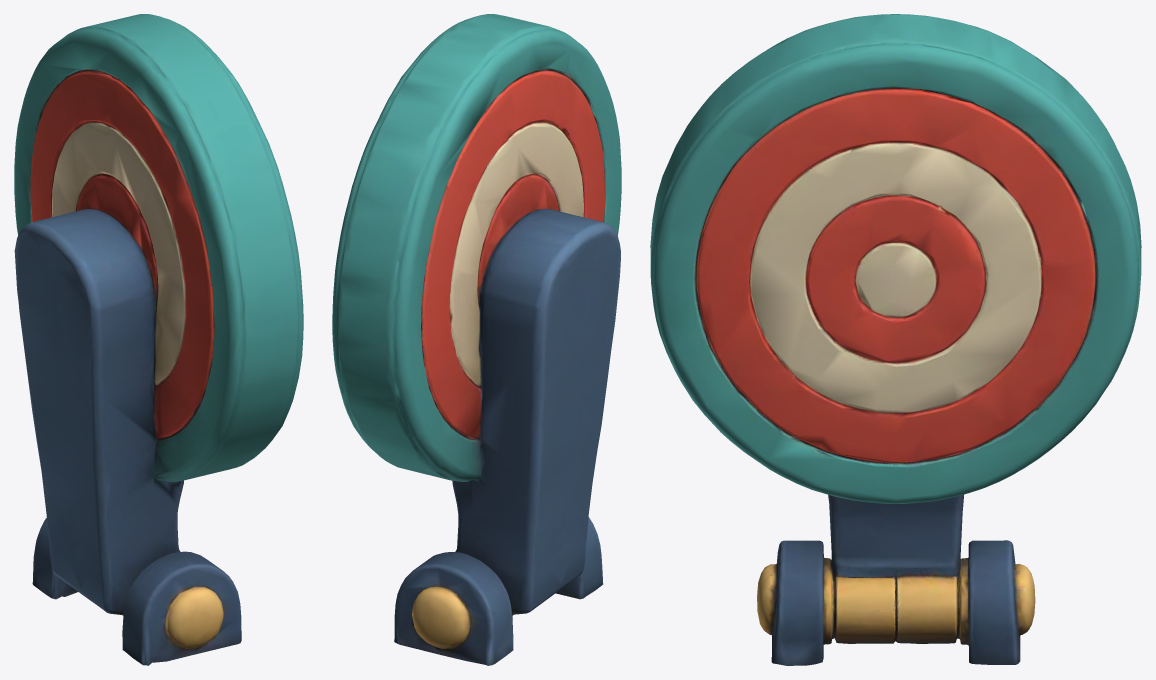
File: target.glb
The picture shows the model from 3 angles, left to right: view 1: azimuth 30°, elevation 25°; view 2: azimuth 150°, elevation 25°; view 3: azimuth 270°, elevation 25°; orthographic projection. The views are drawn at different scales.
Parts seen in each view (by area): view 1: tripo_node_e228d525-99fd-4e02-93d7-0b60b1f7116d; view 2: tripo_node_e228d525-99fd-4e02-93d7-0b60b1f7116d; view 3: tripo_node_e228d525-99fd-4e02-93d7-0b60b1f7116d.
Boxes of the visible parts, x1,y1,x2,y2 form: tripo_node_e228d525-99fd-4e02-93d7-0b60b1f7116d: [14, 14, 303, 665]; tripo_node_e228d525-99fd-4e02-93d7-0b60b1f7116d: [332, 14, 621, 665]; tripo_node_e228d525-99fd-4e02-93d7-0b60b1f7116d: [650, 14, 1141, 665].
Size of the model in its own units: 0.237 by 0.8519 by 0.6079.
1 material, 1 textured.
